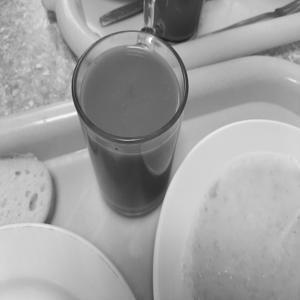coffee: (46, 20, 200, 225)
